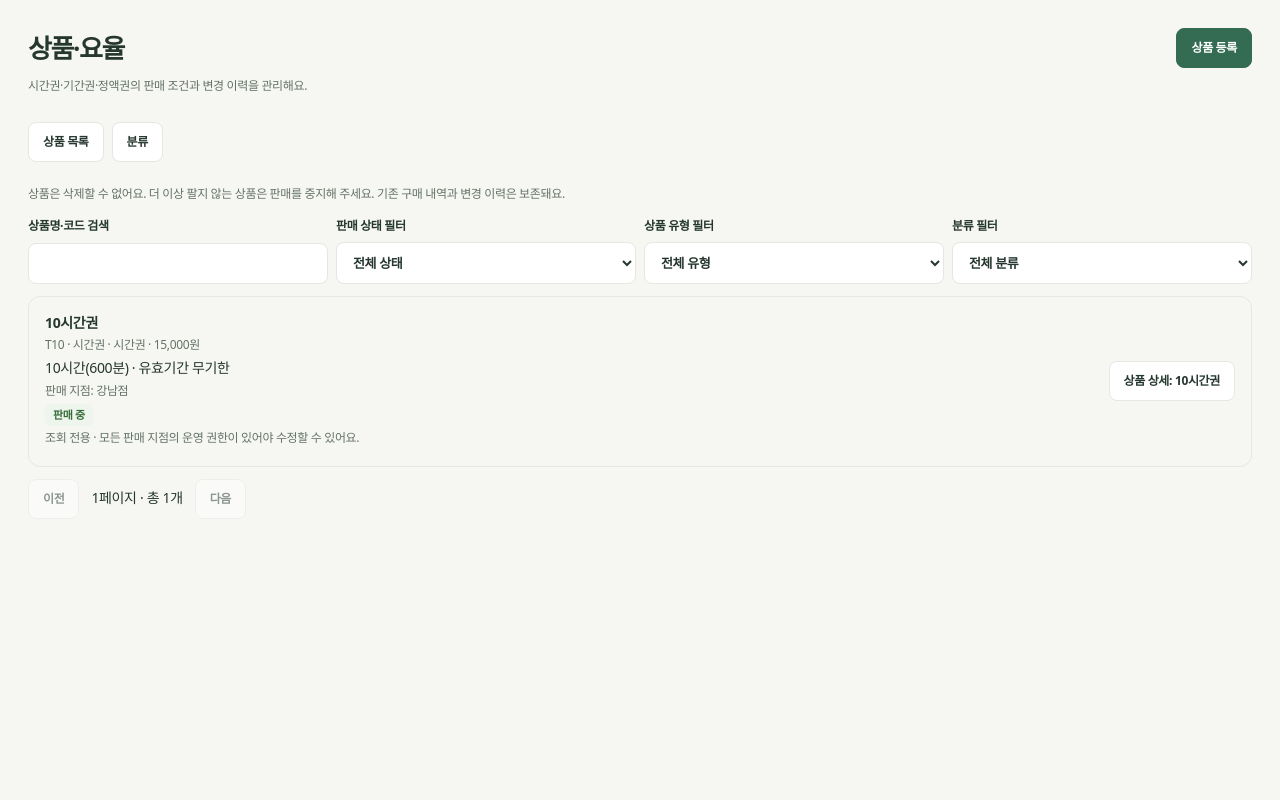
explains a read-only shared product and hides every write control
Click the button "상품 상세: 10시간권" at (1172, 381), box x1=1108 y1=361 x2=1235 y2=401
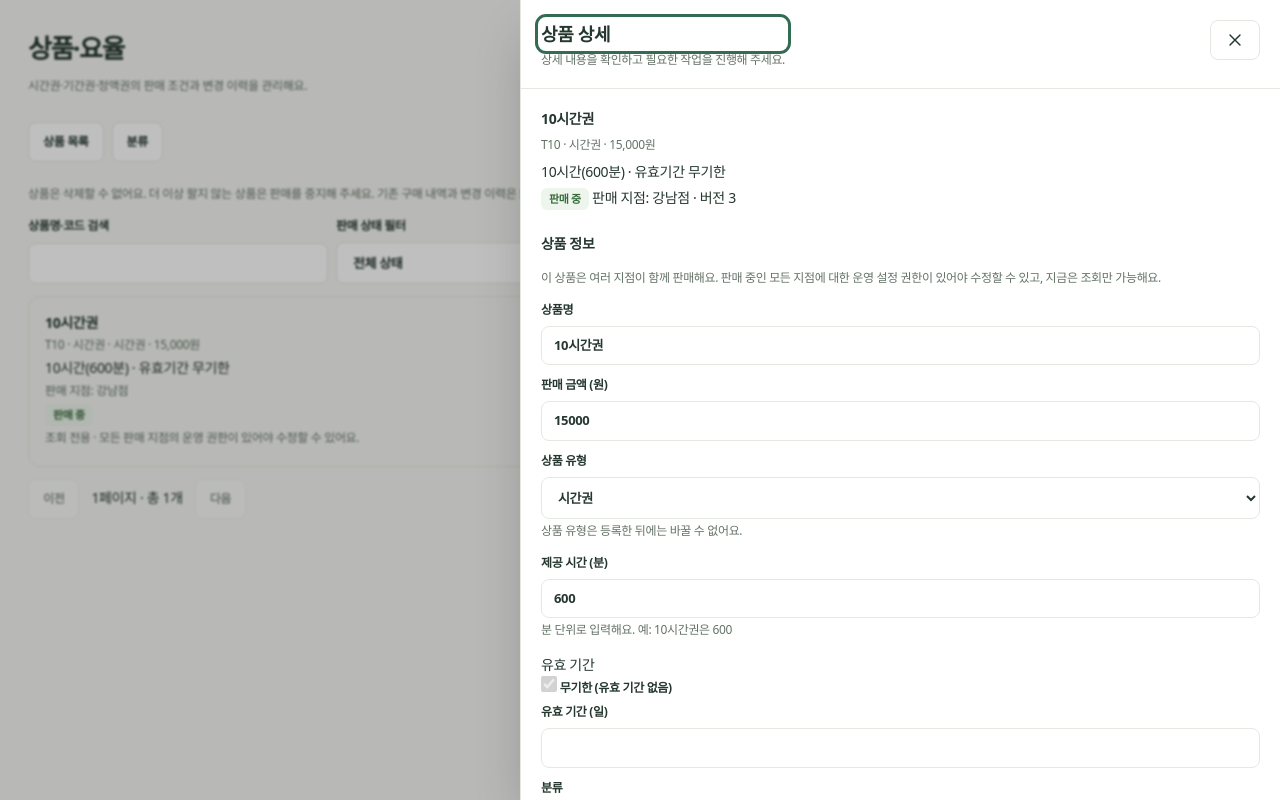
Expected: the text "조회 전용 · 모든 판매 지점의 운영 권한이 있어야 수정할 수 있어요." is shown, x1=45 y1=426 x2=359 y2=450
Result: the text "모든 지점에 대한 운영 설정 권한" is shown at x1=541 y1=269 x2=1161 y2=286
Result: the field labelled "판매 금액 (원)" is disabled at x1=541 y1=401 x2=1260 y2=441
